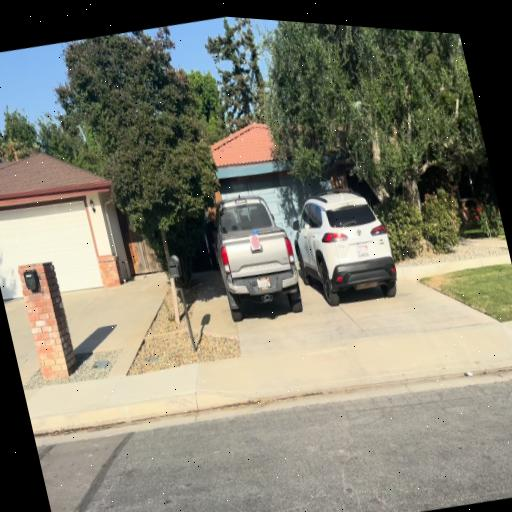bullseye: (250, 233, 262, 250)
